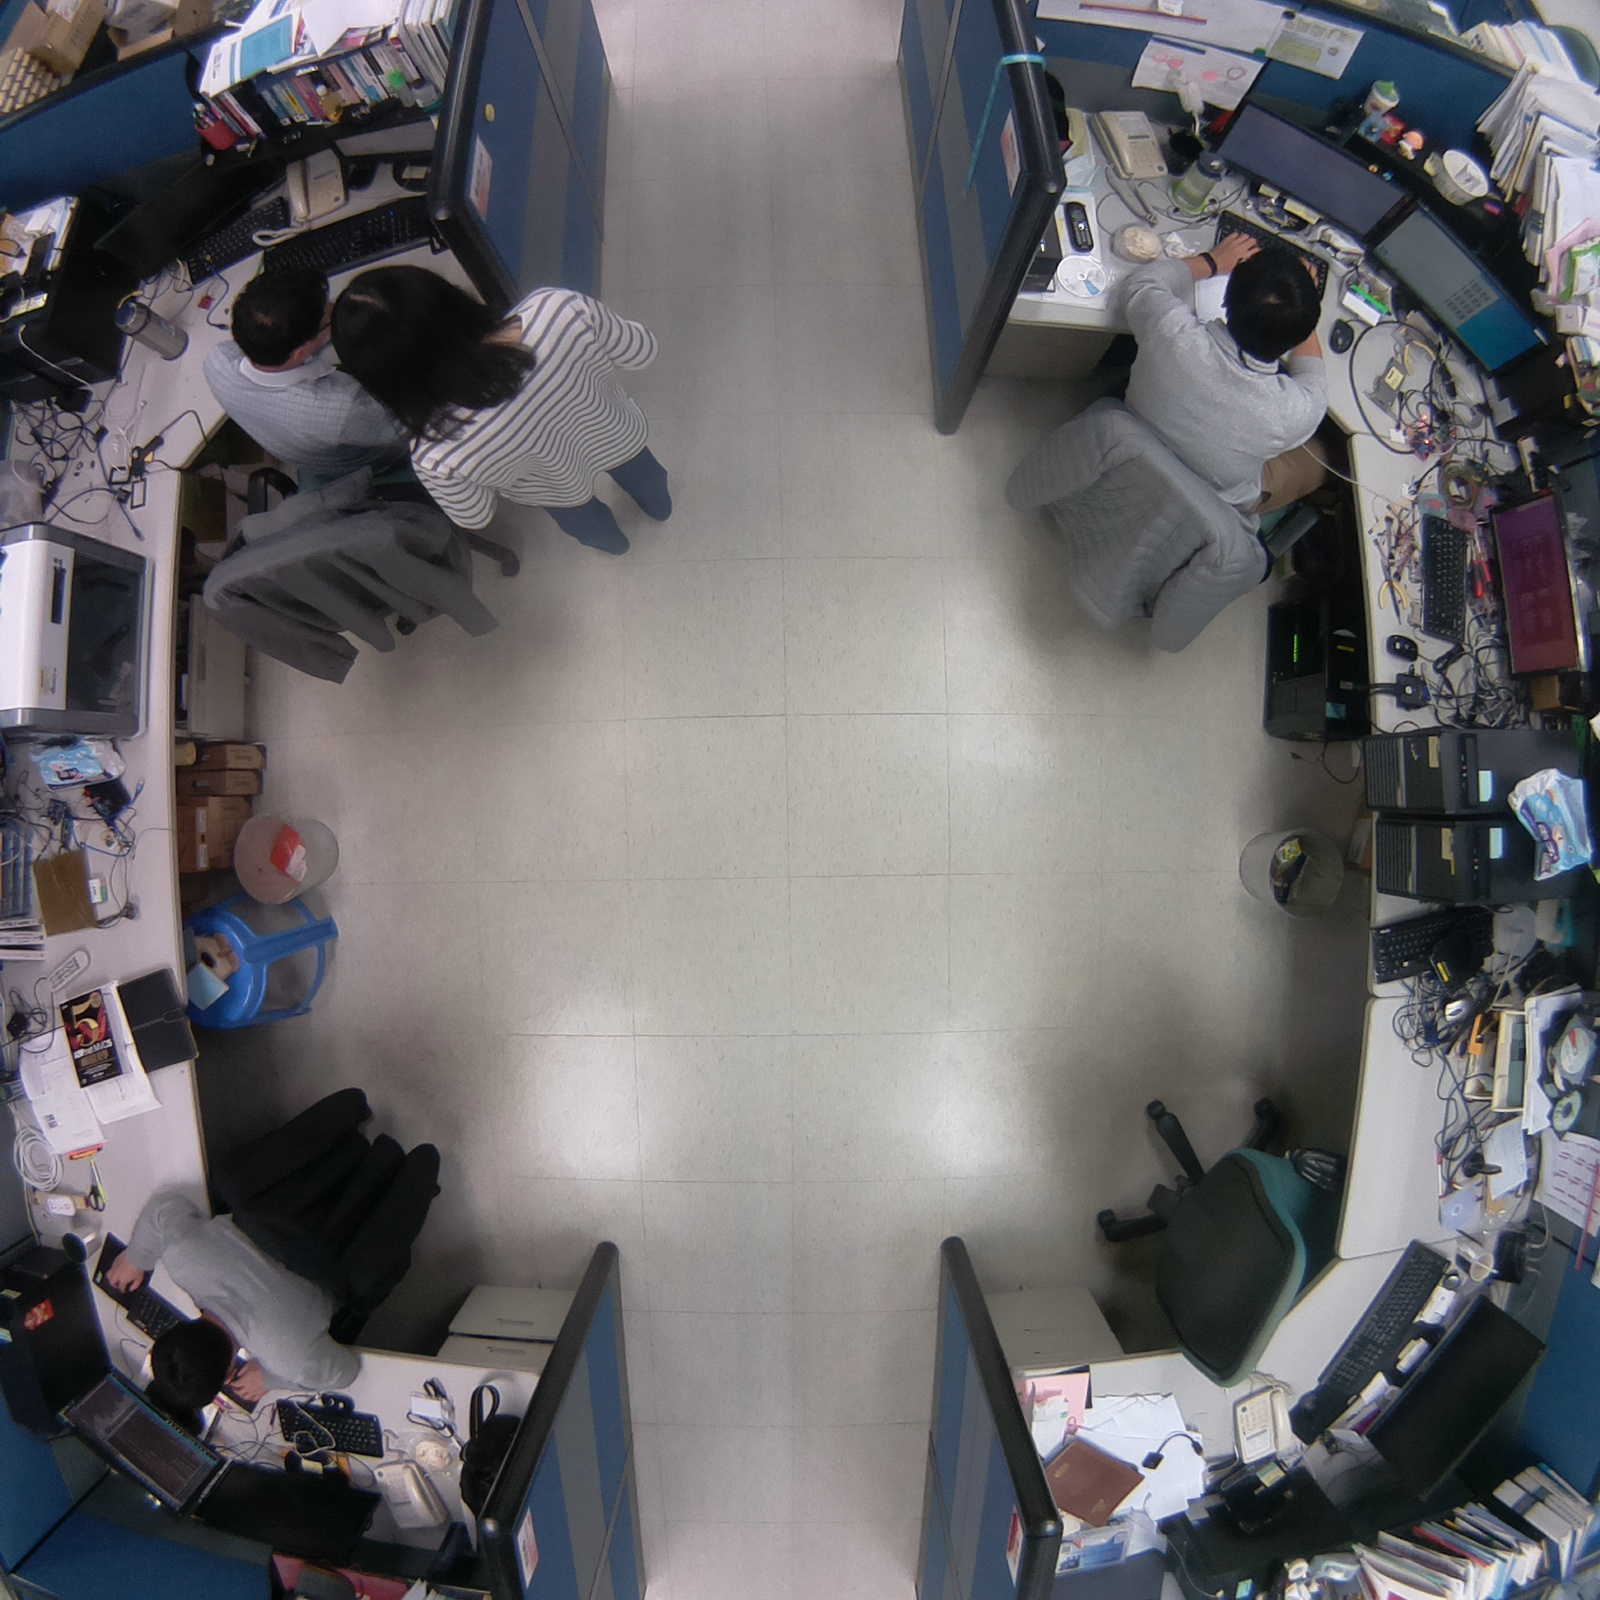chair: (1070, 1083, 1368, 1396)
head: (325, 259, 495, 446), (1217, 244, 1329, 368), (225, 261, 329, 374), (146, 1304, 242, 1419)
sitting: (196, 257, 540, 709), (991, 238, 1341, 670), (90, 1068, 460, 1420)
standing: (325, 260, 698, 577)
